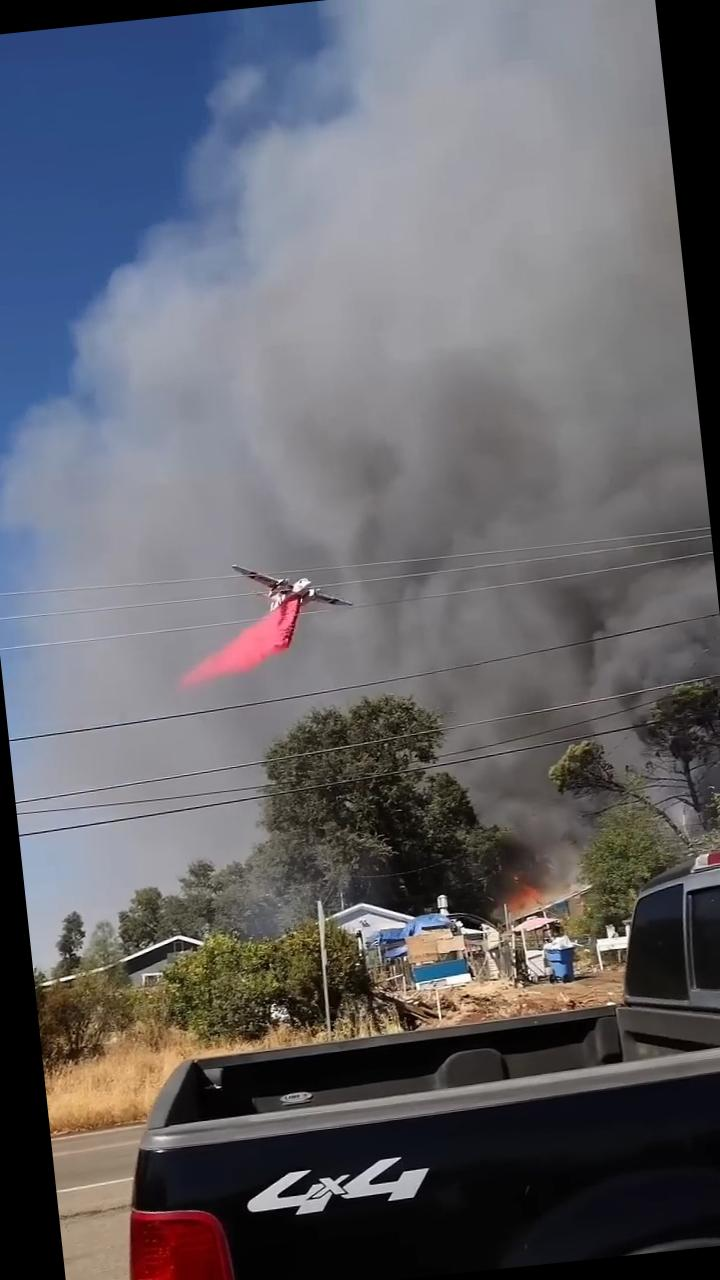Smoke: (253, 0, 720, 711)
